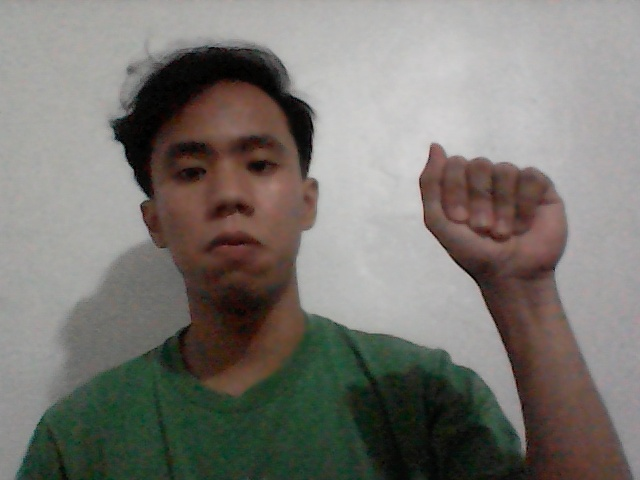A: (388, 122, 598, 316)
